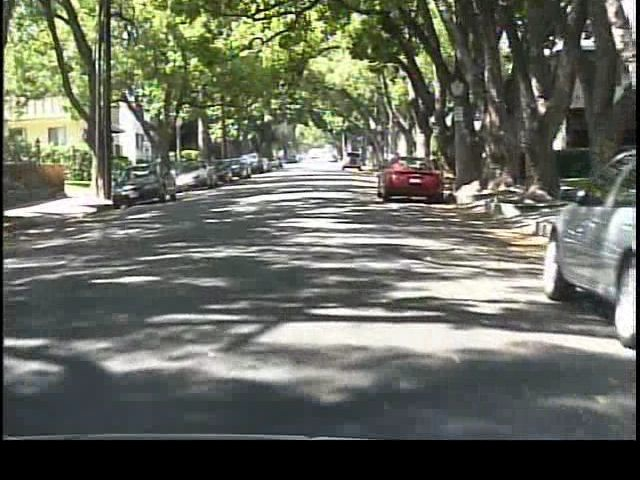person: (150, 147, 170, 187)
